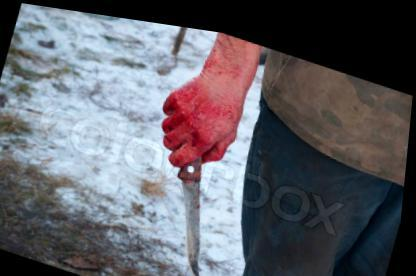knife: (119, 98, 248, 273)
